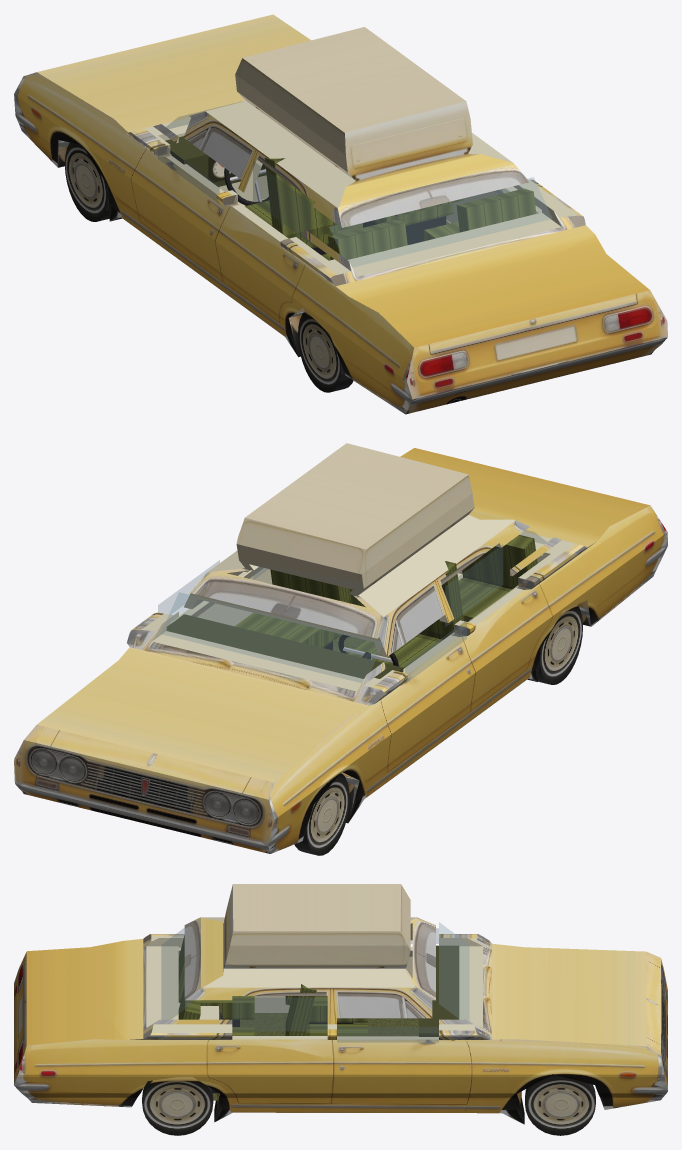
Rendered from taxi.glb.
3 renders of one model, top to bottom at view 1: azimuth 30°, elevation 25°; view 2: azimuth 150°, elevation 25°; view 3: azimuth 270°, elevation 25°, orthographic. The views are drawn at different scales.
Parts seen in each view (by area): view 1: taxi, taxi_cabin, wheel_BL, wheel_FL; view 2: taxi, taxi_cabin, wheel_FL, wheel_BL; view 3: taxi, taxi_cabin, wheel_BR, wheel_FR.
Part boxes in pixels (box(x1,y1,x2,y2)): taxi: box(14, 14, 667, 414); taxi_cabin: box(158, 102, 551, 267); wheel_BL: box(298, 310, 353, 392); wheel_FL: box(64, 142, 109, 221); taxi: box(14, 443, 667, 853); taxi_cabin: box(158, 530, 546, 683); wheel_FL: box(294, 773, 349, 855); wheel_BL: box(538, 605, 582, 684); taxi: box(14, 884, 667, 1124); taxi_cabin: box(161, 922, 469, 1100); wheel_BR: box(142, 1075, 213, 1135); wheel_FR: box(525, 1074, 595, 1135).
Size of the model in its own units: 1.84 by 1.49 by 4.9.
11 materials, 4 textured.
